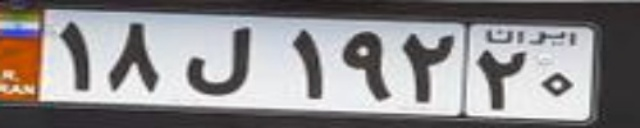0: (537, 71, 579, 96)
1: (57, 22, 92, 89), (291, 30, 321, 101)
2: (401, 32, 456, 103), (477, 48, 525, 110)
8: (107, 22, 162, 93)
9: (339, 30, 393, 102)
lam: (188, 25, 250, 96)
